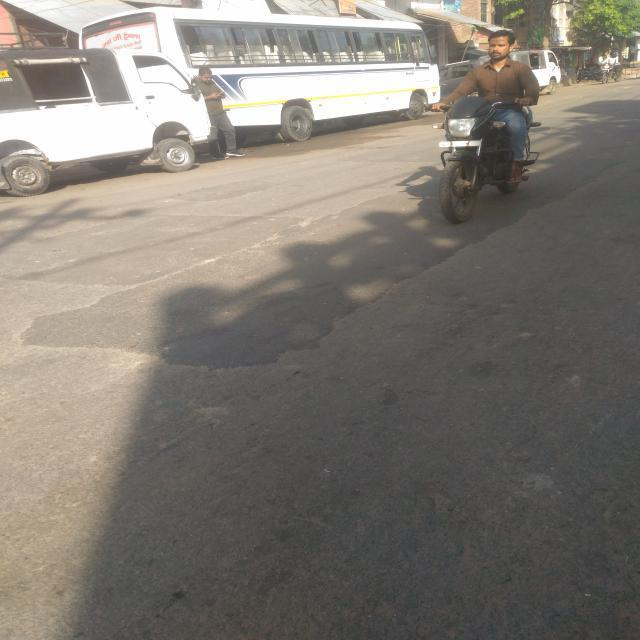two_wheeler_front: (421, 90, 544, 230)
